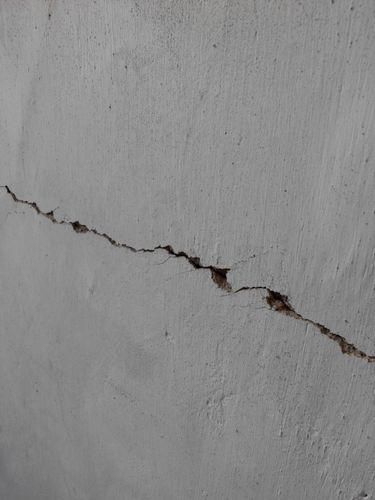Crack: (1, 182, 375, 364)
